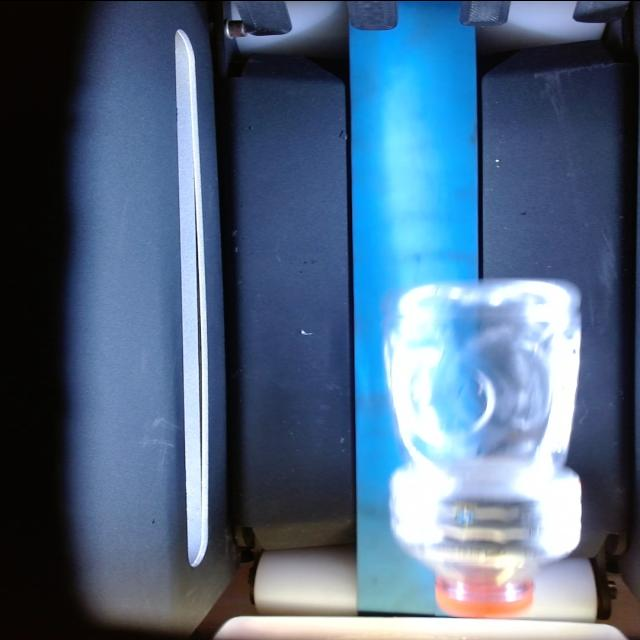bottom: (385, 279, 580, 464)
label: (394, 486, 581, 556)
neck: (435, 563, 535, 615)
